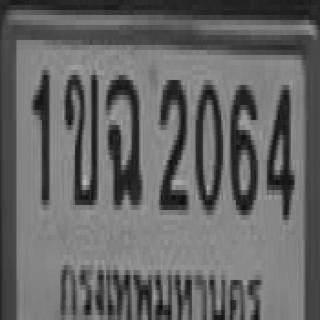A02: (62, 65, 97, 200)
A09: (104, 70, 141, 205)
N00: (194, 75, 221, 210)
N01: (31, 65, 48, 200)
N02: (157, 75, 187, 205)
N04: (265, 80, 292, 215)
N06: (228, 80, 256, 210)
P04: (57, 250, 265, 320)
